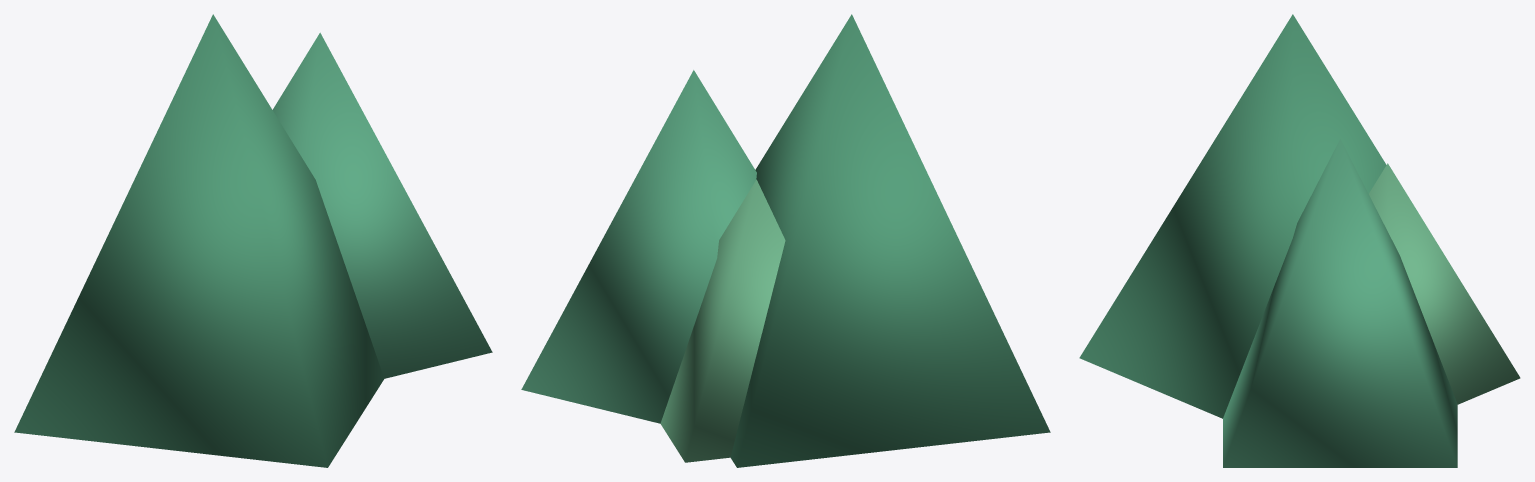
The model's file is mountain_bg.glb.
3 views of the same model, side by side, from view 1: azimuth 30°, elevation 25°; view 2: azimuth 150°, elevation 25°; view 3: azimuth 270°, elevation 25° (orthographic). The views are drawn at different scales.
Visible parts, largest first — view 1: peak_back, peak_mid; view 2: peak_back, peak_mid, peak_front; view 3: peak_back, peak_mid, peak_front.
Boxes of the visible parts, box(x1,y1,x2,y2) form: peak_back: box(14, 14, 384, 467); peak_mid: box(273, 32, 492, 378); peak_back: box(730, 14, 1050, 467); peak_mid: box(521, 70, 756, 423); peak_front: box(660, 179, 785, 462); peak_back: box(1079, 14, 1386, 418); peak_mid: box(1223, 139, 1457, 467); peak_front: box(1369, 163, 1520, 404).
Size of the model in its own units: 0.9975 by 0.8 by 0.93.
